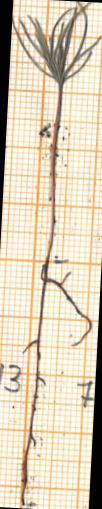flower: (12, 2, 100, 86)
root: (47, 87, 62, 260)
stem: (21, 260, 91, 504)
